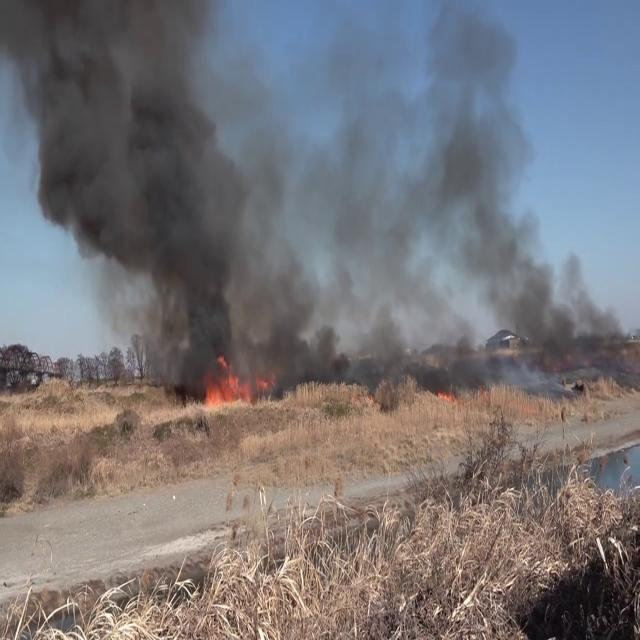Fire: (202, 349, 250, 412)
Smoke: (272, 1, 634, 380), (0, 0, 286, 386)
